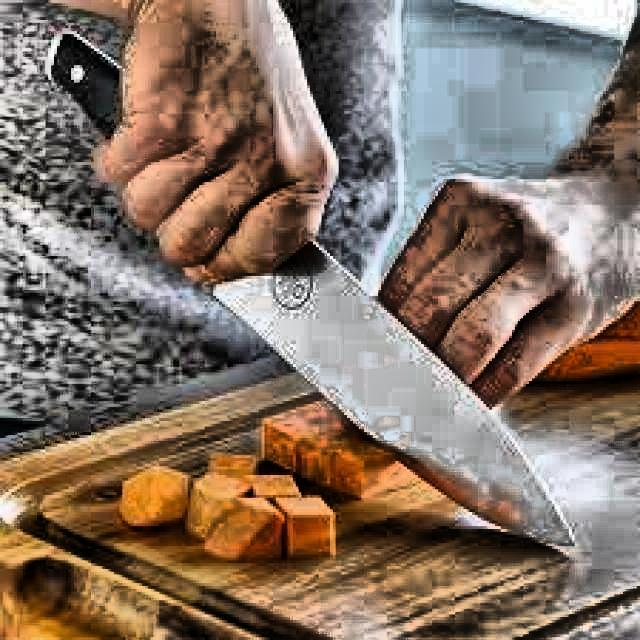knife: (48, 28, 585, 558)
